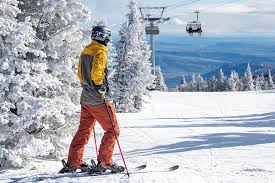skis: (59, 163, 180, 176)
